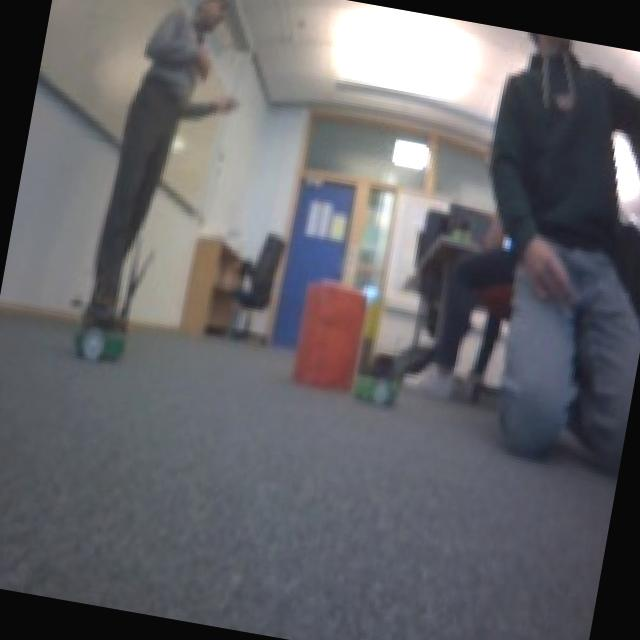robot: (70, 304, 135, 366), (348, 350, 408, 410)
target: (286, 271, 373, 393)
